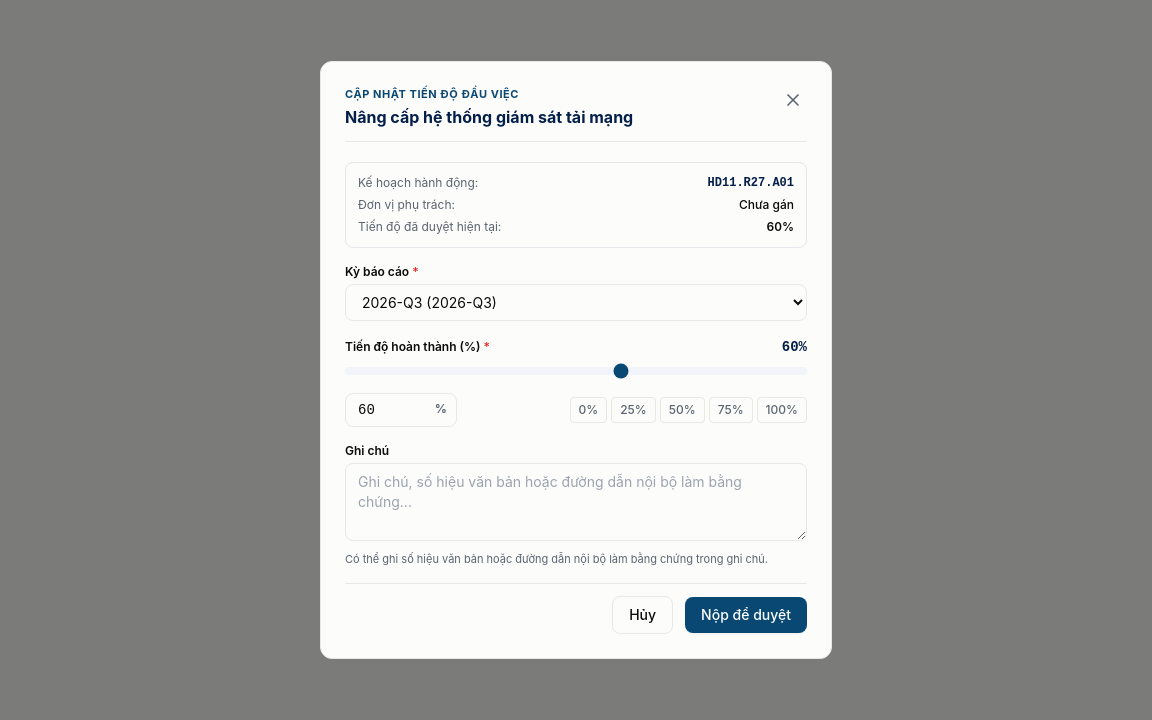
Test: TaskUpdateForm component › successfully submits POST /api/tasks/{id}/updates
This screenshot has width=1152, height=720.
Replace the text in the number field labelled "Tiến độ hoàn thành (%) *" with "75" at (401, 410), box [345, 392, 457, 426]
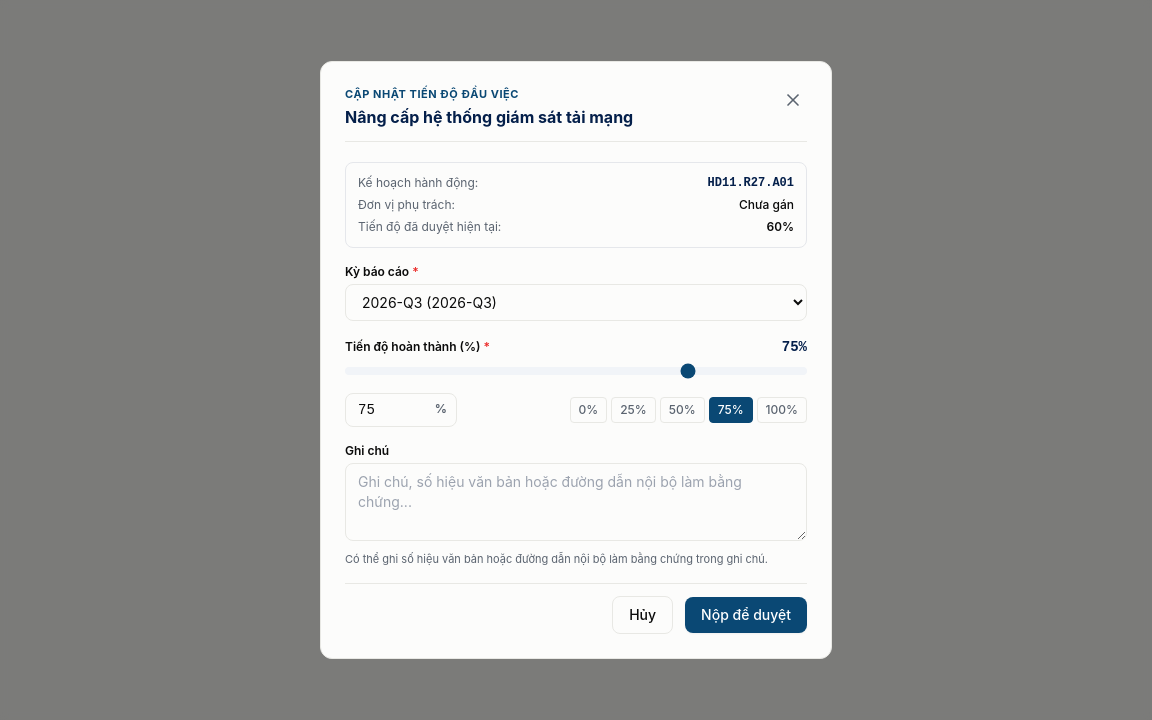
Replace the text in the text box labelled "Ghi chú" with "Đã hoàn thành thử nghiệm đợt 1" at (576, 502), box [345, 462, 807, 540]
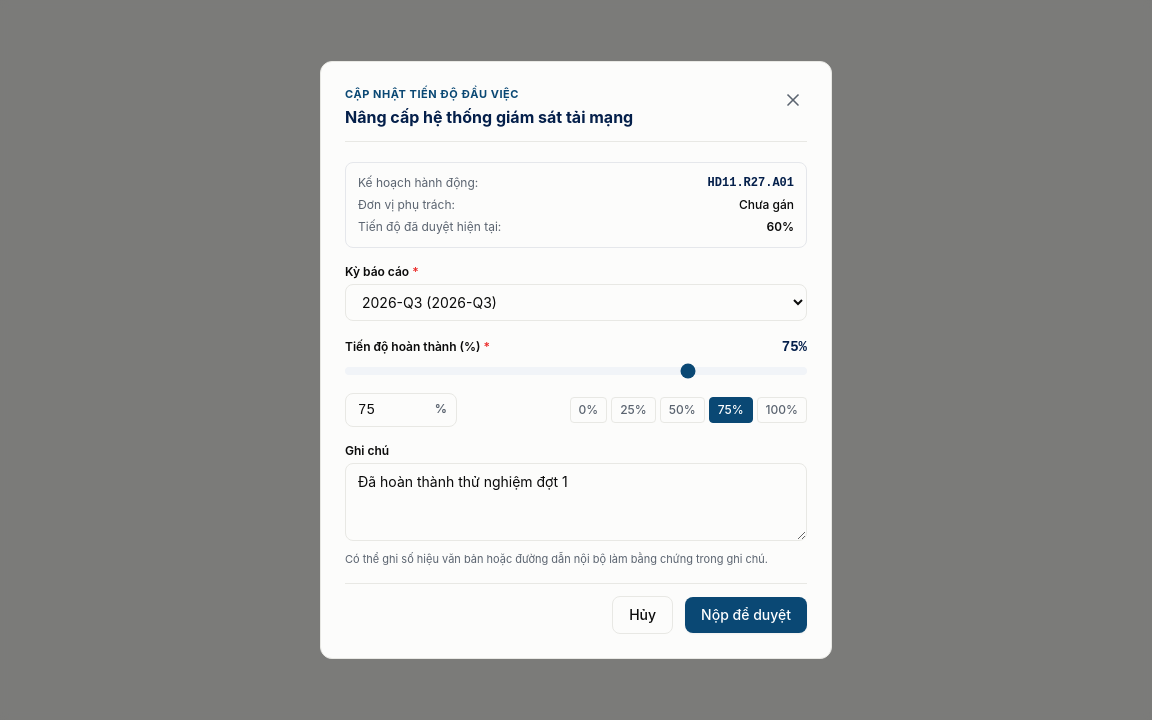
Click the button "Nộp để duyệt".
click(746, 615)  # box [685, 597, 807, 633]
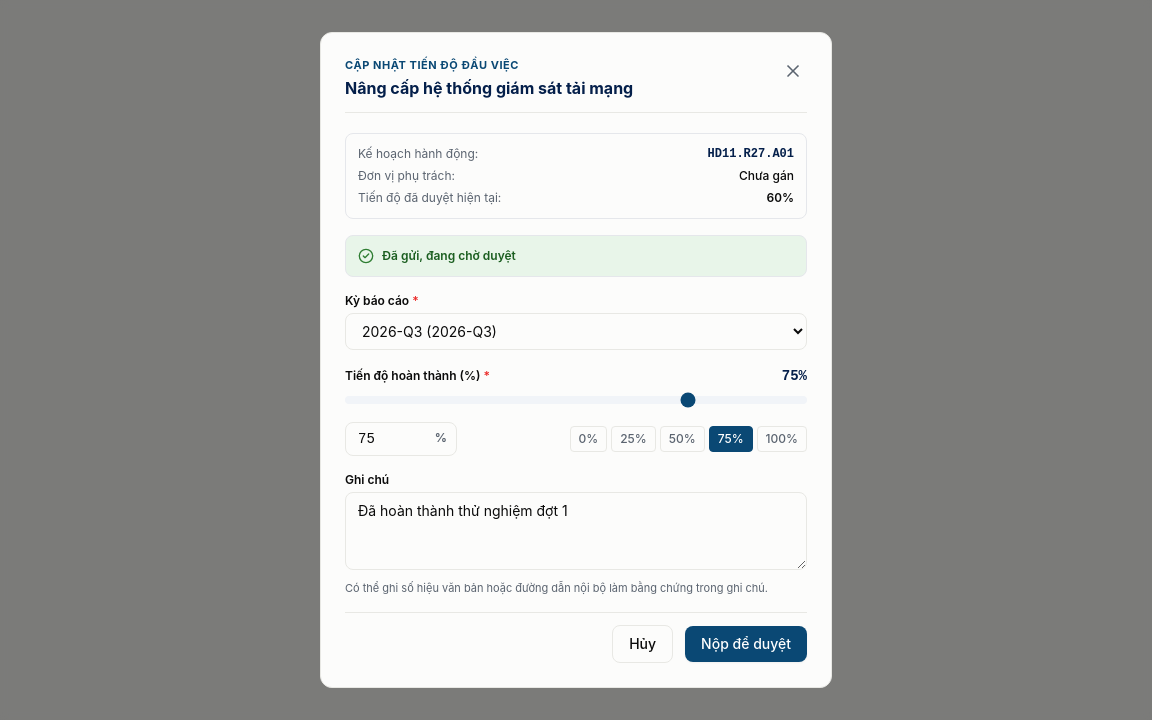
Expected: the text "Đã gửi, đang chờ duyệt" is shown, [382, 248, 516, 264]
